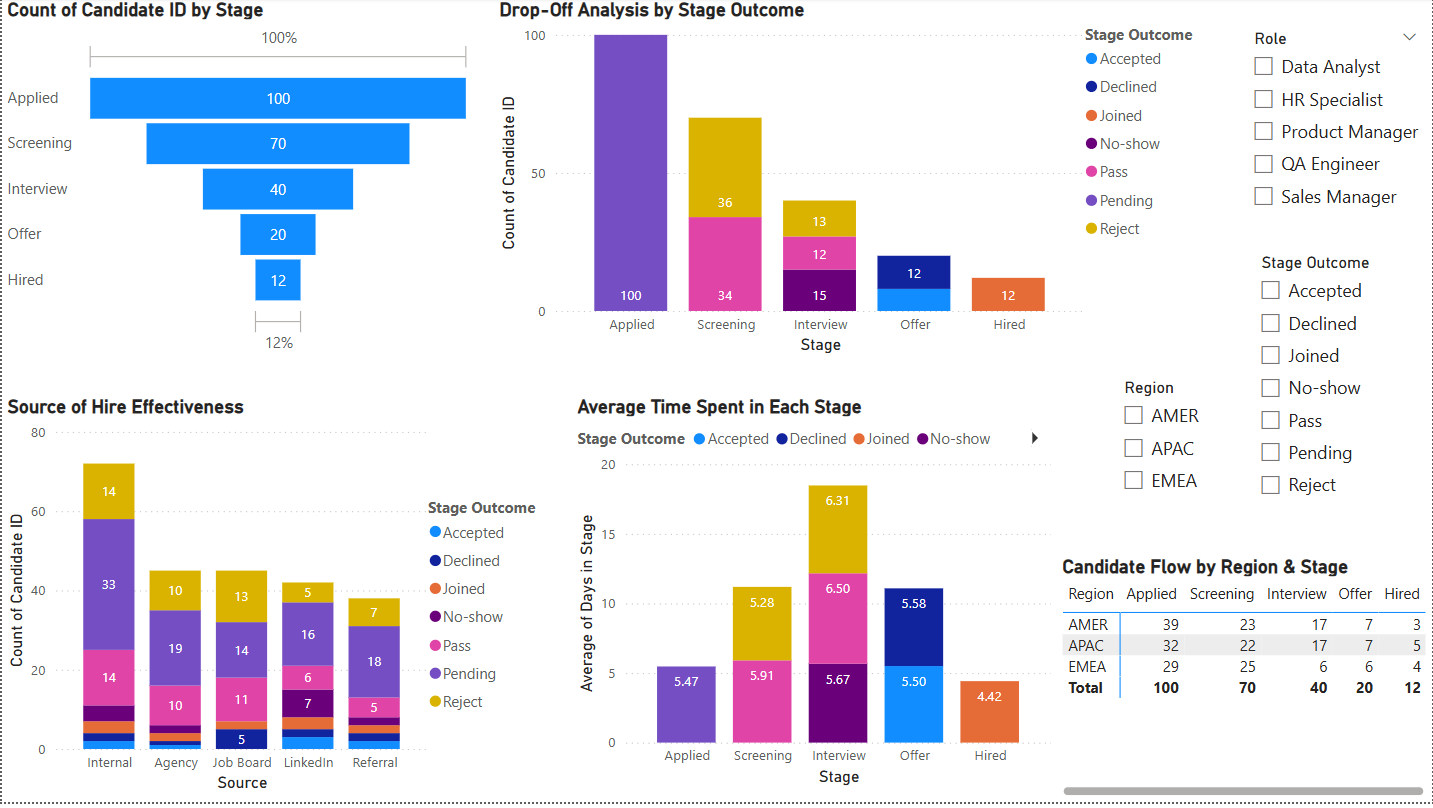

The dashboard page shown, as its layout file describes it:
{"tool":"powerbi","page":{"name":"Page 1","canvas":[1280,720],"ordinal":0},"visuals":[{"type":"funnel","fields":{"Category":["Stage_Lookup.Stage"],"Y":["CountNonNull(Table.Candidate ID)"]},"box":[0,0,425.4,323.3],"z":0},{"type":"slicer","fields":{"Values":["Table.Role"]},"box":[1108.7,23.3,171,189.9],"z":1000},{"type":"slicer","fields":{"Values":["Table.Region"]},"box":[992.2,335.8,116.4,121.8],"z":2000},{"type":"columnChart","title":"Drop-Off Analysis by Stage Outcome","fields":{"Category":["Stage_Lookup.Stage"],"Series":["Table.Stage Outcome"],"Y":["CountNonNull(Table.Candidate ID)"]},"box":[440.6,0,648.4,323.3],"z":2001},{"type":"columnChart","title":"Source of Hire Effectiveness","fields":{"Category":["Table.Source"],"Y":["CountNonNull(Table.Candidate ID)"],"Series":["Table.Stage Outcome"]},"box":[0,355.5,500.6,360],"z":2002},{"type":"slicer","fields":{"Values":["Table.Stage Outcome"]},"box":[1114.9,223.9,164.8,233.7],"z":2003},{"type":"columnChart","title":"Average Time Spent in Each Stage","fields":{"Category":["Stage_Lookup.Stage"],"Y":["Avg(Table.Days in Stage)"],"Series":["Table.Stage Outcome"]},"box":[510.4,355.5,434.3,354.6],"z":2004},{"type":"pivotTable","title":"Candidate Flow by Region & Stage","fields":{"Rows":["Table.Region"],"Columns":["Stage_Lookup.Stage"],"Values":["CountNonNull(Table.Candidate ID)"]},"box":[944.8,498.8,334.9,221.2],"z":2005}]}

Visuals, with their boxes in screenshot pixels (x1, y1, x2, y2), scaled from the page's 1280x720 canvas onto the 1433x808 screenshot:
funnel - Stage_Lookup.Stage x CountNonNull(Table.Candidate ID): <region>0, 0, 476, 363</region>
slicer - Table.Role: <region>1241, 26, 1432, 239</region>
slicer - Table.Region: <region>1111, 377, 1241, 514</region>
"Drop-Off Analysis by Stage Outcome" columnChart: <region>493, 0, 1219, 363</region>
"Source of Hire Effectiveness" columnChart: <region>0, 399, 560, 803</region>
slicer - Table.Stage Outcome: <region>1248, 251, 1432, 514</region>
"Average Time Spent in Each Stage" columnChart: <region>571, 399, 1058, 797</region>
"Candidate Flow by Region & Stage" pivotTable: <region>1058, 560, 1432, 807</region>
